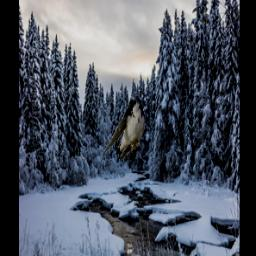Swallow: (101, 95, 146, 161)
